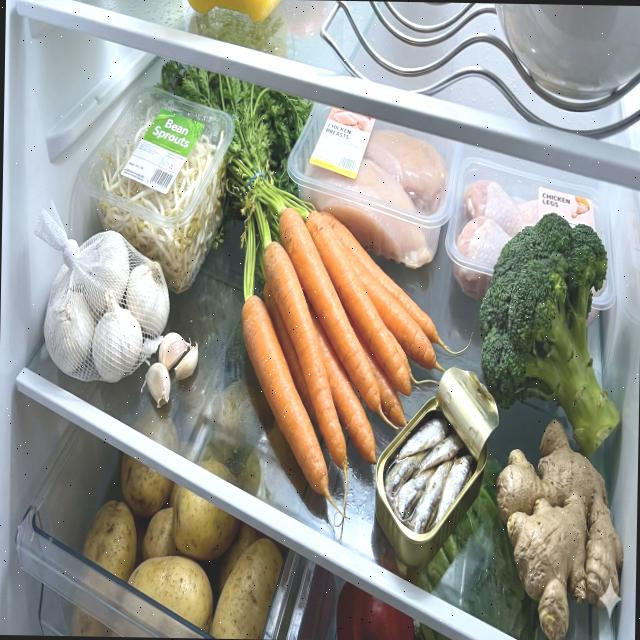bean_sprouts: (97, 103, 225, 289)
brocolli: (476, 211, 626, 459)
carrot: (238, 205, 442, 498)
chicken: (302, 104, 449, 270), (452, 180, 596, 306)
fish: (384, 414, 474, 536)
garlic: (41, 228, 200, 410)
ginger: (494, 417, 625, 640)
potato: (80, 451, 286, 639)
